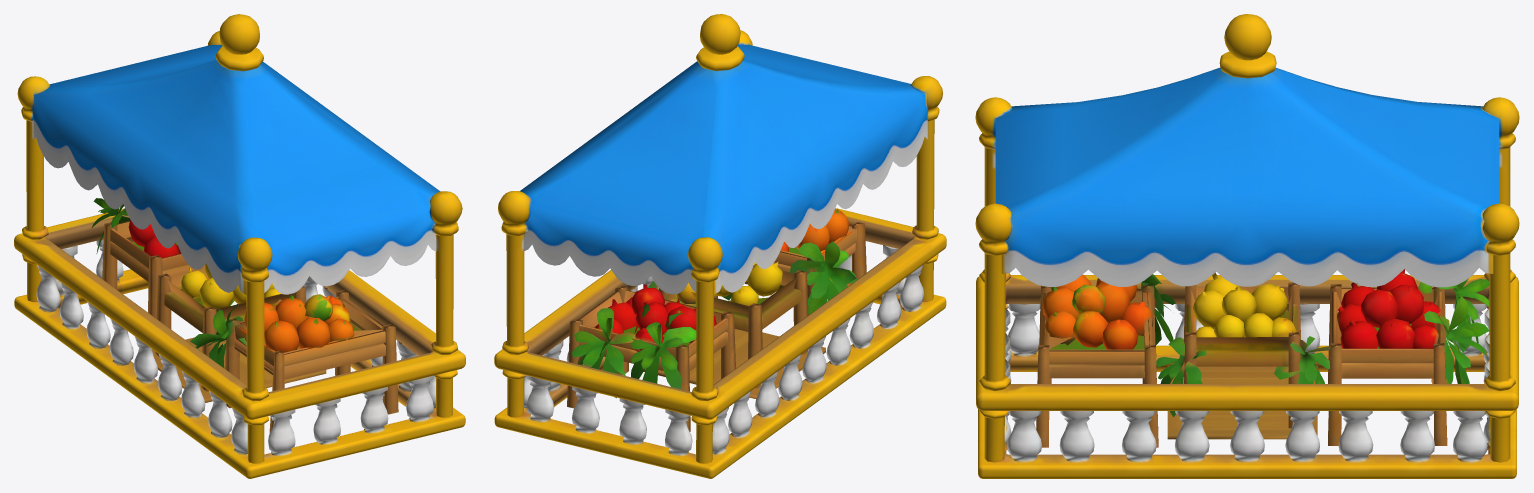
Rendered from HaloChunk_JuiceParasol_SM_texMV4k_pbr_src.fbx.
3 views of the same model, side by side, from view 1: azimuth 30°, elevation 25°; view 2: azimuth 150°, elevation 25°; view 3: azimuth 270°, elevation 25° (orthographic). The views are drawn at different scales.
Visible parts, largest first — view 1: tripo_922eeb1a_cdfa_4362_97f9_6cab1b7240b4; view 2: tripo_922eeb1a_cdfa_4362_97f9_6cab1b7240b4; view 3: tripo_922eeb1a_cdfa_4362_97f9_6cab1b7240b4.
Boxes of the visible parts, <box> form: tripo_922eeb1a_cdfa_4362_97f9_6cab1b7240b4: <box>14,14,465,478</box>; tripo_922eeb1a_cdfa_4362_97f9_6cab1b7240b4: <box>494,14,946,478</box>; tripo_922eeb1a_cdfa_4362_97f9_6cab1b7240b4: <box>975,14,1519,478</box>.
Size of the model in its own units: 0.5356 by 0.8179 by 0.9995.
1 material, 1 textured.
